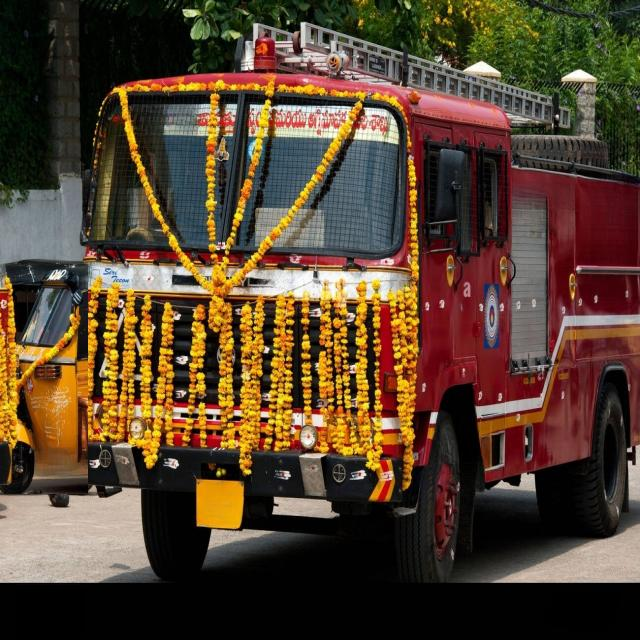autorickshaw: (0, 265, 88, 494)
emergency: (70, 23, 640, 582)
